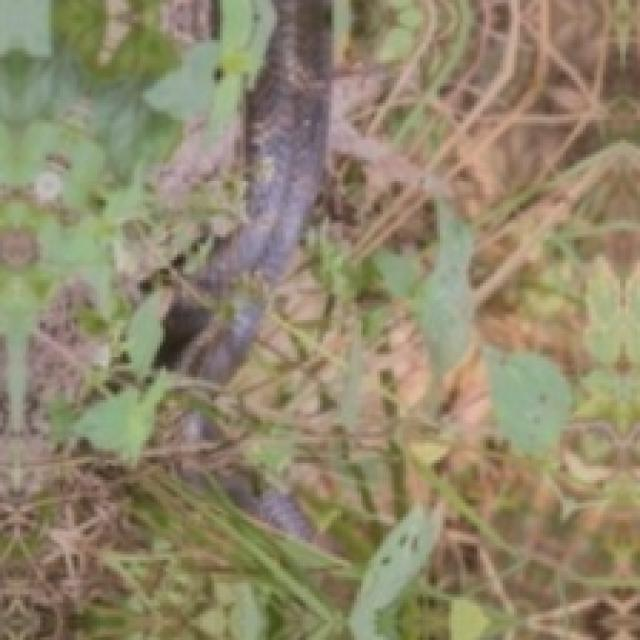king cobra: (0, 0, 329, 494)
